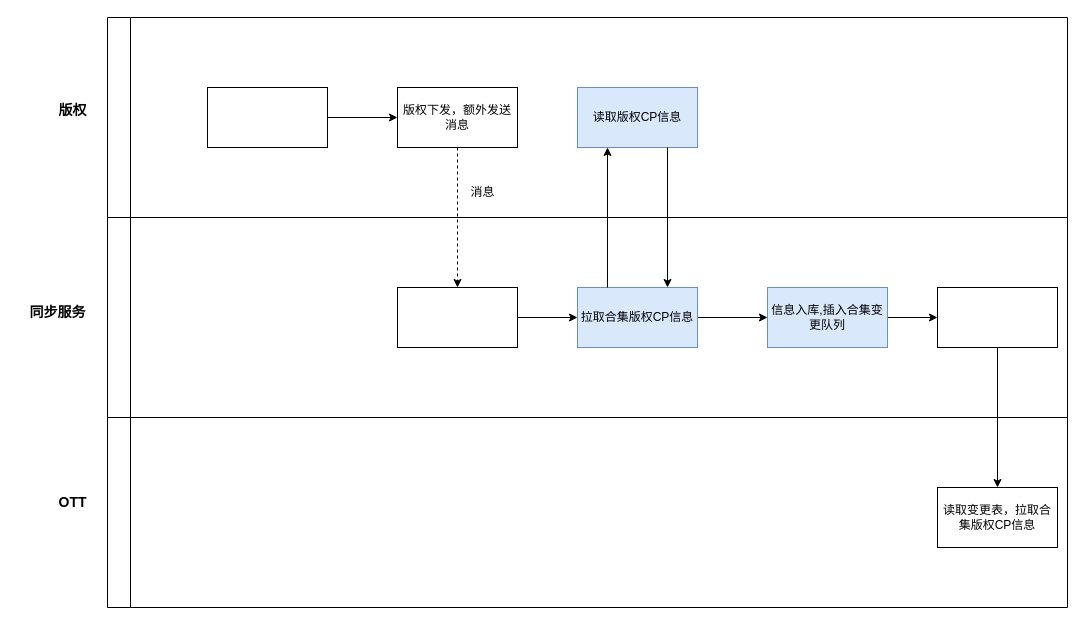
This 1085x625 diagram has some shape labels left out. Here are the shapes that lost their labels. From the top down, the box of each, then its label:
(206, 86, 328, 148): 版权变更
(396, 286, 518, 348): 接收消息
(936, 286, 1058, 348): 插入合集变更表
